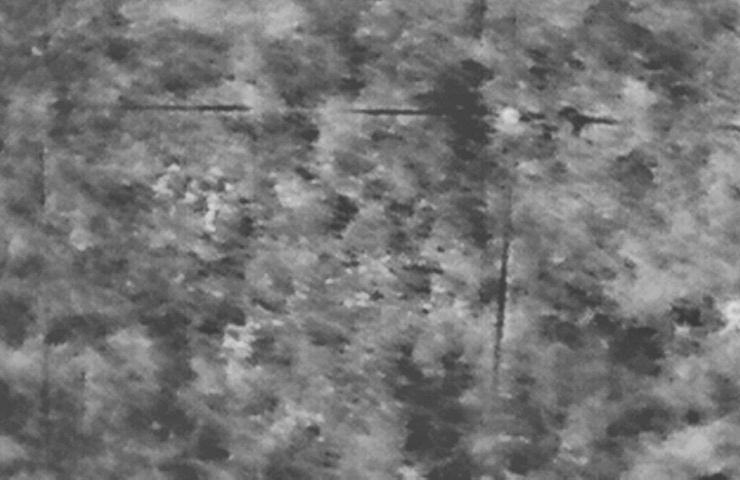landmines: (222, 318, 264, 358)
